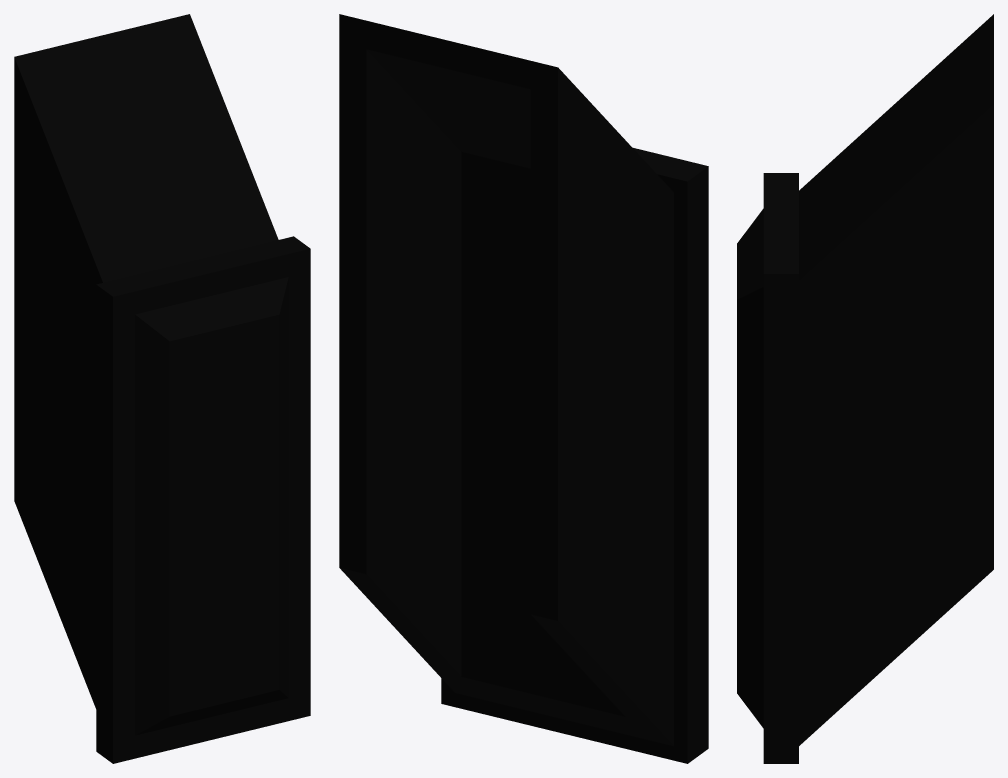
The model's file is Libra_Leg_1_Base.obj.
3 renders of one model, left to right at view 1: azimuth 30°, elevation 25°; view 2: azimuth 150°, elevation 25°; view 3: azimuth 270°, elevation 25°, orthographic. The views are drawn at different scales.
Parts seen in each view (by area): view 1: Libra_Leg_1_Base; view 2: Libra_Leg_1_Base; view 3: Libra_Leg_1_Base.
Boxes of the visible parts, x1=… form: Libra_Leg_1_Base: x1=14, y1=14, x2=310, y2=763; Libra_Leg_1_Base: x1=339, y1=14, x2=708, y2=763; Libra_Leg_1_Base: x1=737, y1=14, x2=993, y2=763.
Size of the model in its own units: 0.135 by 0.4075 by 0.145.
Materials: 1 (1 with a texture image).
